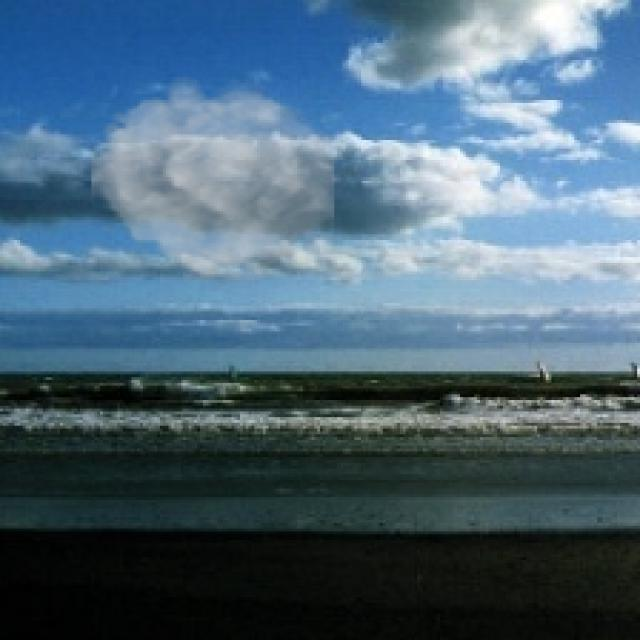smoke: (92, 74, 334, 286)
